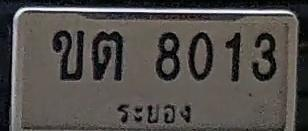0: (188, 31, 213, 80)
1: (225, 31, 241, 82)
3: (251, 31, 276, 80)
8: (155, 31, 180, 80)
A02: (52, 29, 84, 80)
A21: (92, 30, 123, 80)
RYG: (110, 96, 200, 130)
